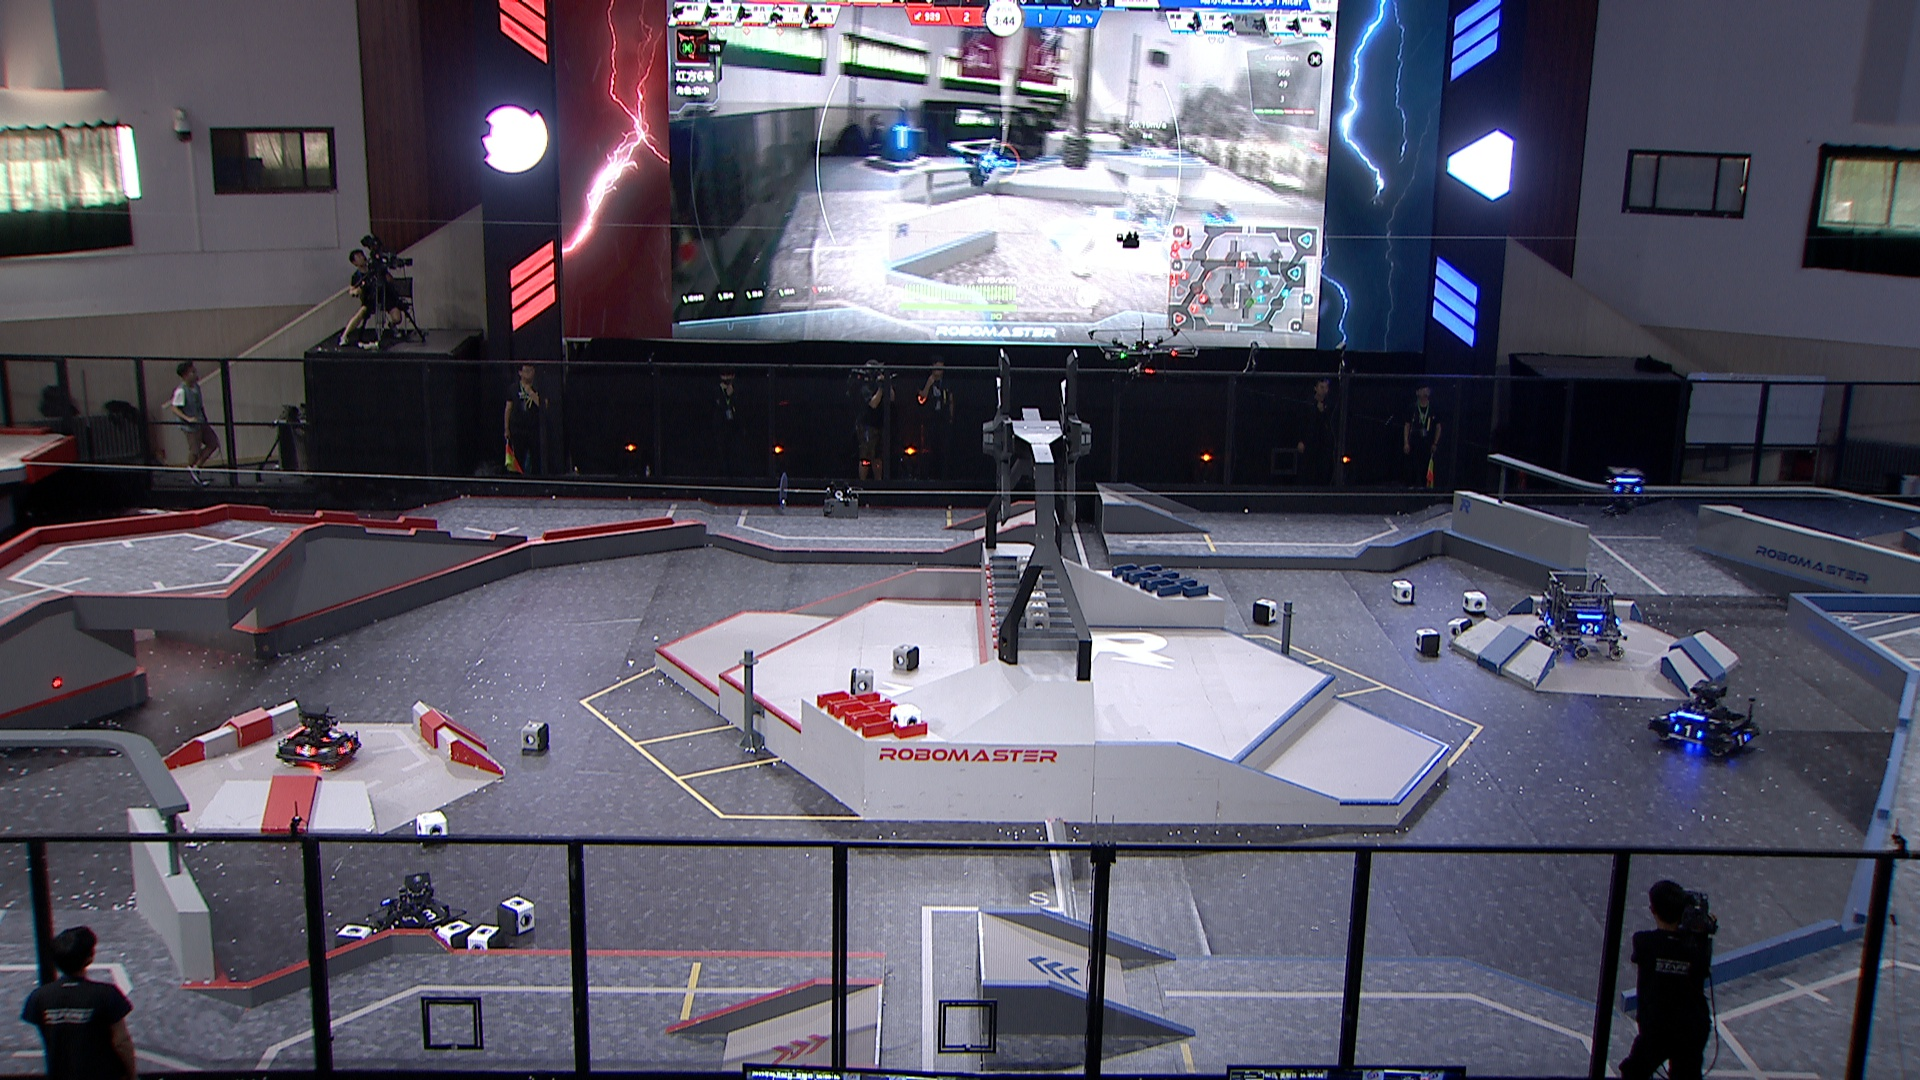armor: (414, 907, 446, 924), (1673, 721, 1700, 741), (320, 727, 343, 744), (291, 742, 314, 756), (1617, 481, 1638, 495), (1737, 731, 1753, 746), (1581, 622, 1600, 636), (339, 740, 353, 756)
car: (1644, 678, 1766, 764), (1534, 566, 1626, 666), (371, 872, 465, 953), (272, 707, 367, 774)
ignore: (882, 123, 916, 160), (1200, 199, 1240, 229)
watcher: (1600, 458, 1651, 518)
